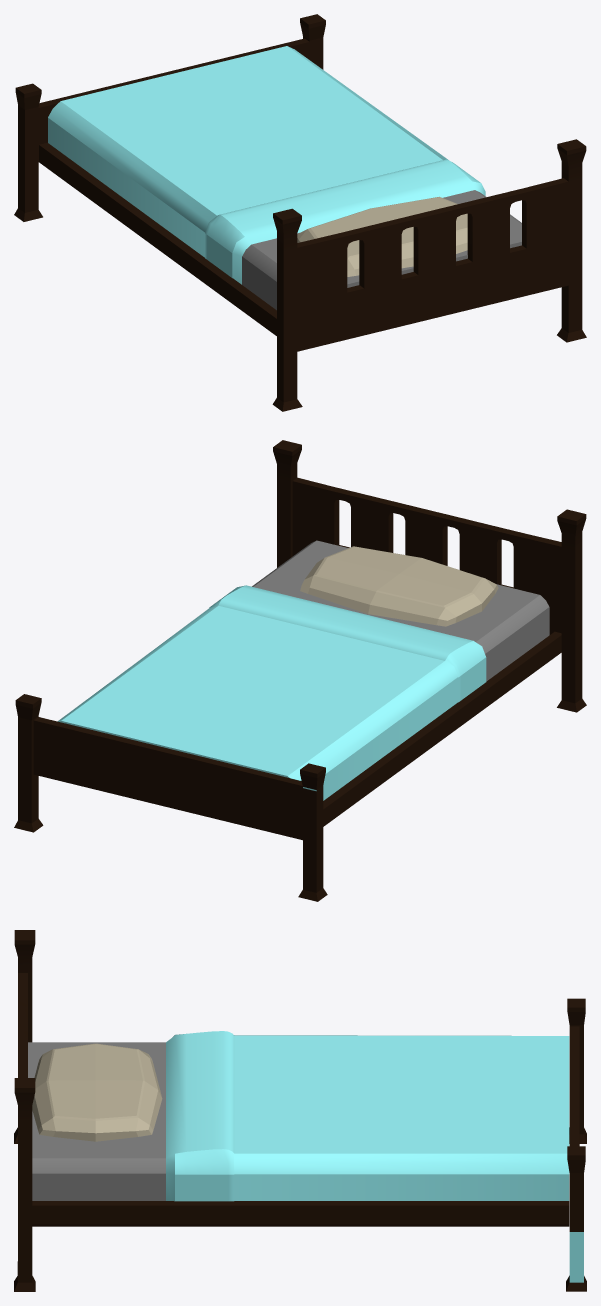
Rendered from Bed_FBX.fbx.
The picture shows the model from 3 angles, top to bottom: view 1: azimuth 30°, elevation 25°; view 2: azimuth 150°, elevation 25°; view 3: azimuth 270°, elevation 25°; orthographic projection. The views are drawn at different scales.
Parts seen in each view (by area): view 1: Mattress002, Box215, Box209, Box212, PILLOW; view 2: Mattress002, Box212, Box215, PILLOW, Box209; view 3: Mattress002, Box209, PILLOW, Box215, Box212.
Part boxes in pixels (x1=…): Mattress002: x1=48, y1=46, x2=521, y2=310; Box215: x1=272, y1=139, x2=586, y2=411; Box209: x1=39, y1=142, x2=276, y2=335; Box212: x1=14, y1=14, x2=325, y2=221; PILLOW: x1=297, y1=196, x2=467, y2=276; Mattress002: x1=57, y1=540, x2=549, y2=800; Box212: x1=14, y1=694, x2=327, y2=901; Box215: x1=273, y1=440, x2=586, y2=712; PILLOW: x1=300, y1=546, x2=498, y2=626; Box209: x1=323, y1=631, x2=561, y2=826; Mattress002: x1=28, y1=1031, x2=569, y2=1201; Box209: x1=32, y1=1201, x2=569, y2=1226; PILLOW: x1=32, y1=1043, x2=162, y2=1141; Box215: x1=14, y1=930, x2=35, y2=1291; Box212: x1=566, y1=998, x2=586, y2=1291.
Bounding box in the file's own units: 186 × 112 × 285.
